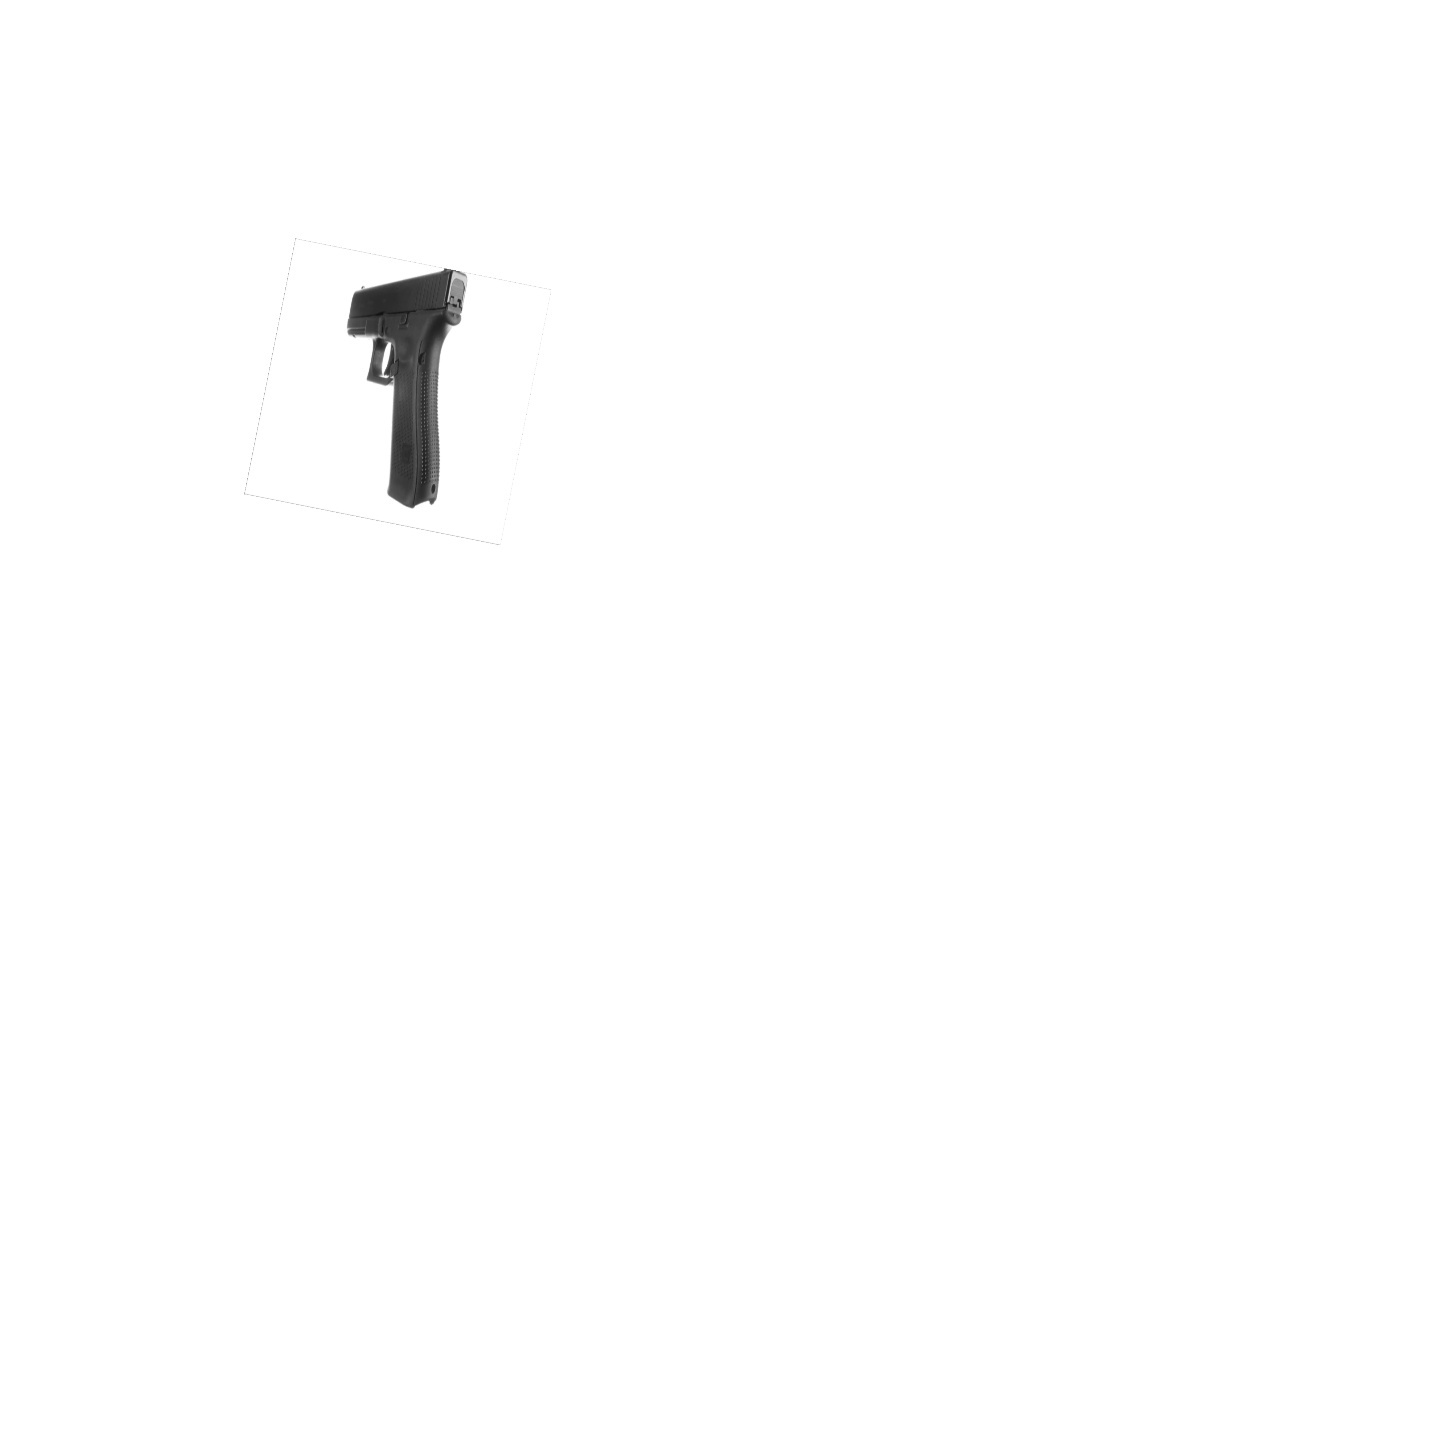gun: (348, 269, 464, 510)
